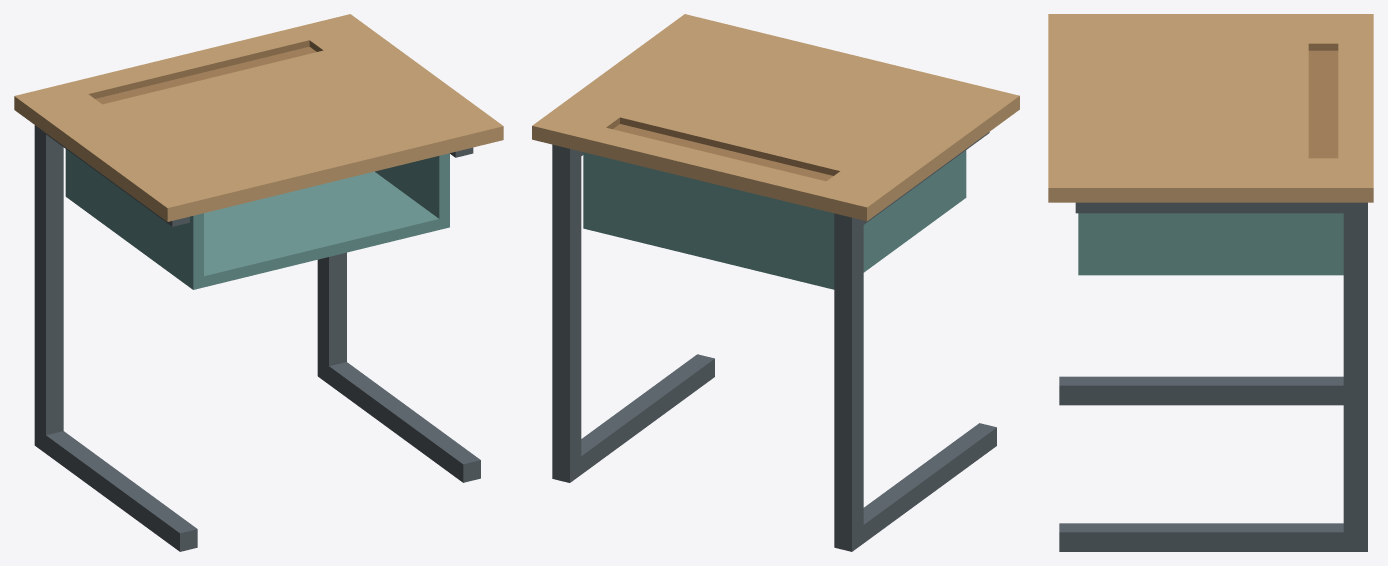
3 renders of one model, left to right at view 1: azimuth 30°, elevation 25°; view 2: azimuth 150°, elevation 25°; view 3: azimuth 270°, elevation 25°, orthographic. The views are drawn at different scales.
Parts seen in each view (by area): view 1: BlindPencilChannelWorktop, FrontOpenBookwell, LeftContinuousCFrame, RightContinuousCFrame; view 2: BlindPencilChannelWorktop, FrontOpenBookwell, LeftContinuousCFrame, RightContinuousCFrame; view 3: BlindPencilChannelWorktop, RightContinuousCFrame, FrontOpenBookwell, LeftContinuousCFrame.
Boxes of the visible parts, box(x1,y1,x2,y2) form: BlindPencilChannelWorktop: box(14, 14, 503, 221); FrontOpenBookwell: box(65, 149, 449, 289); LeftContinuousCFrame: box(34, 125, 197, 551); RightContinuousCFrame: box(317, 147, 480, 482); BlindPencilChannelWorktop: box(532, 14, 1019, 221); FrontOpenBookwell: box(583, 150, 966, 289); LeftContinuousCFrame: box(834, 132, 996, 551); RightContinuousCFrame: box(552, 144, 714, 482); BlindPencilChannelWorktop: box(1048, 14, 1373, 202); RightContinuousCFrame: box(1059, 202, 1367, 551); FrontOpenBookwell: box(1078, 213, 1343, 275); LeftContinuousCFrame: box(1059, 376, 1343, 405).
Size of the model in its own units: 0.76 by 0.76 by 0.6.
